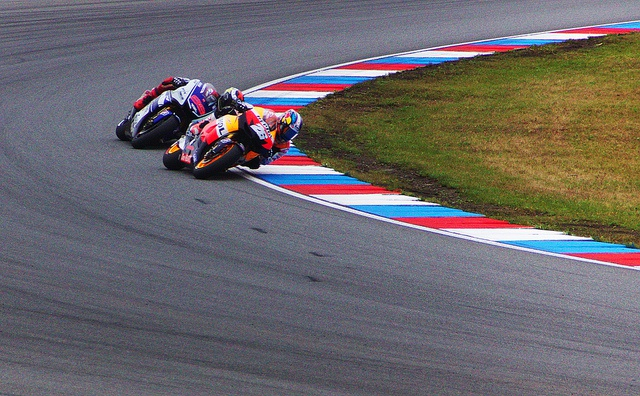non-vehicle: (162, 103, 270, 179), (115, 78, 219, 148)
